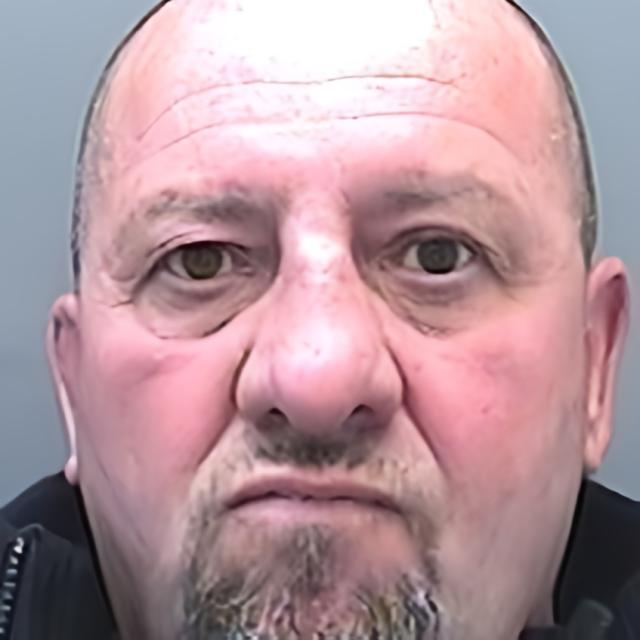disgust: (81, 0, 586, 640)
